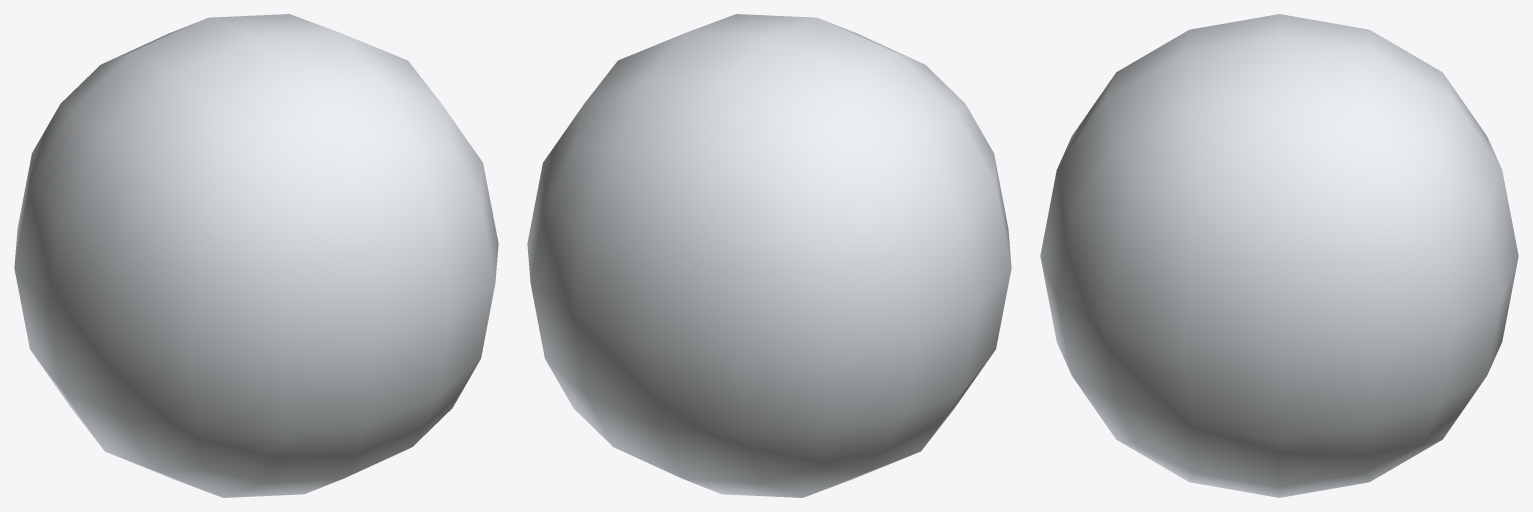
The model's file is BingoMachineBallSingular.fbx.
The picture shows the model from 3 angles, left to right: view 1: azimuth 30°, elevation 25°; view 2: azimuth 150°, elevation 25°; view 3: azimuth 270°, elevation 25°; orthographic projection.
Visible parts, largest first — view 1: BingoMachineBallOriginal; view 2: BingoMachineBallOriginal; view 3: BingoMachineBallOriginal.
Boxes of the visible parts, <box> form: BingoMachineBallOriginal: <box>14,14,498,497</box>; BingoMachineBallOriginal: <box>527,14,1011,497</box>; BingoMachineBallOriginal: <box>1040,14,1518,497</box>.
Bounding box in the file's own units: 11.32 × 11.32 × 11.32.
Materials: 1 (1 with a texture image).
